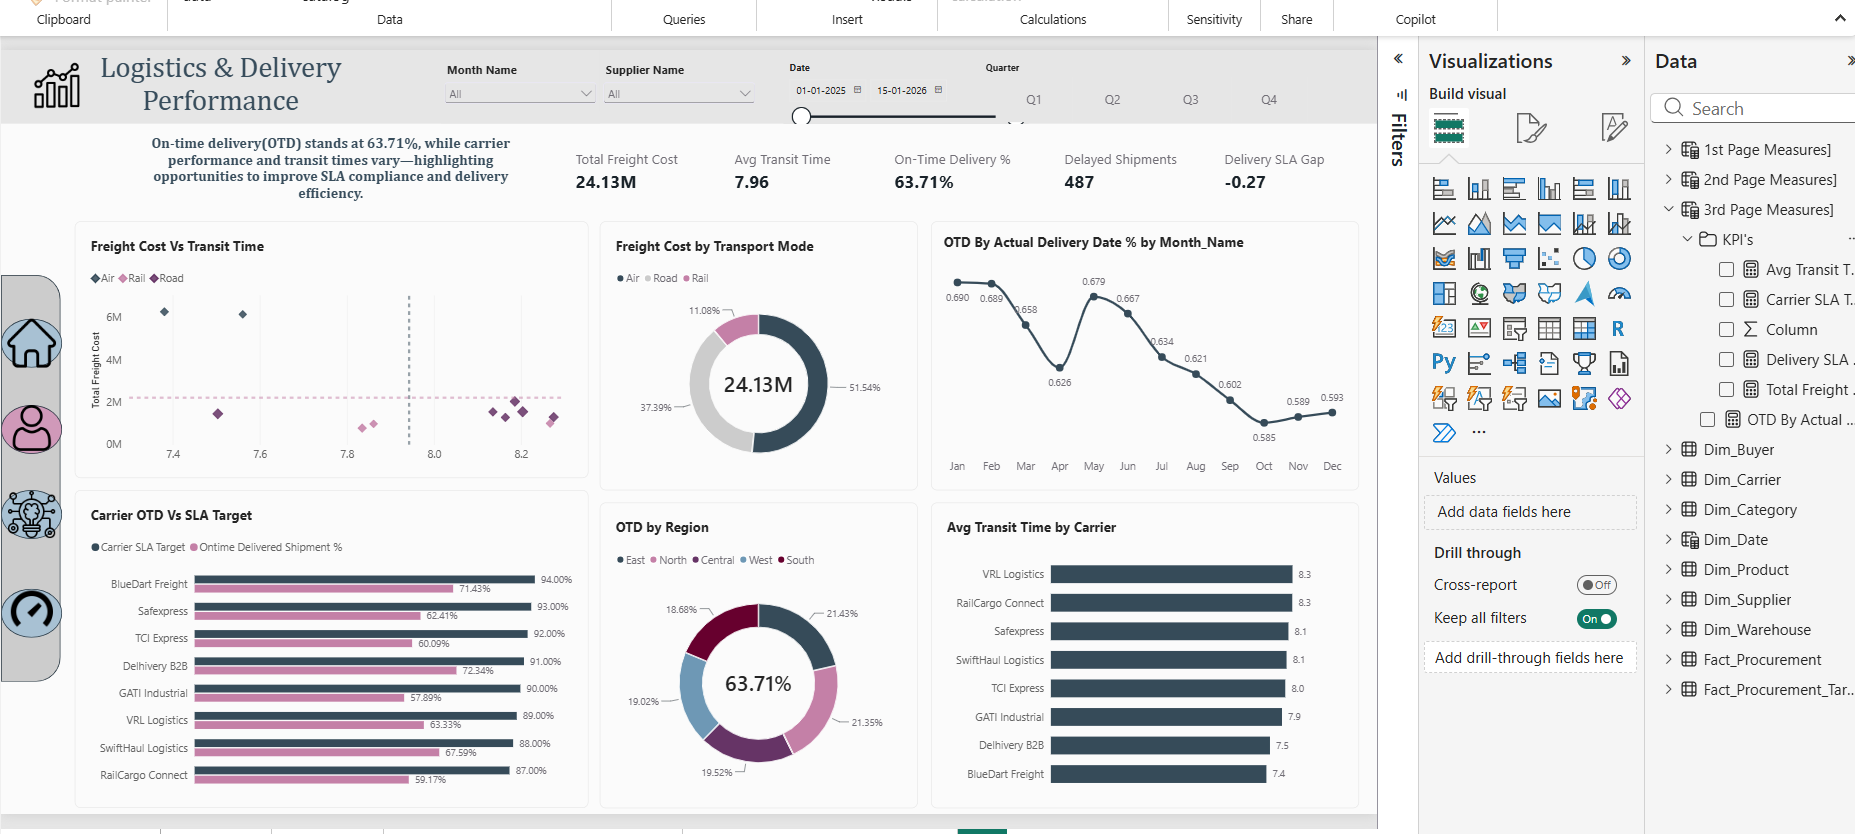

This screenshot's page, from the dashboard's own definition file:
{"tool":"powerbi","page":{"name":"Logistics & Delivery Performance","canvas":[1800,1000],"ordinal":3},"visuals":[{"type":"shape","box":[-8,0,1808,96],"z":0},{"type":"shape","box":[0,295,78,532],"z":1000},{"type":"textbox","box":[112,0,352,96],"z":2000},{"type":"textbox","box":[192,112,480,96],"z":3000},{"type":"shape","box":[0,352,80,64],"z":4000},{"type":"shape","box":[0,464,80,64],"z":5000},{"type":"shape","box":[0,576,80,64],"z":6000},{"type":"shape","box":[0,704,80,64],"z":7000},{"type":"image","box":[32,16,80,60],"z":8000},{"type":"image","box":[0,464,80,60],"z":9000},{"type":"image","box":[0,576,80,64],"z":10000},{"type":"image","box":[0,704,80,60],"z":11000},{"type":"cardVisual","fields":{"Data":["3rd Page Measures].Total Feright Cost"]},"box":[736,112,176,96],"z":12000},{"type":"cardVisual","fields":{"Data":["3rd Page Measures].Avg Transit Time"]},"box":[944,112,176,96],"z":13000},{"type":"cardVisual","fields":{"Data":["1st Page Measures].Ontime Delivered Shipment %"]},"box":[1152,112,208,96],"z":14000},{"type":"cardVisual","fields":{"Data":["1st Page Measures].Delayed Shipments"]},"box":[1376,112,192,96],"z":15000},{"type":"cardVisual","fields":{"Data":["3rd Page Measures].Delivery SLA Gap"]},"box":[1584,112,192,96],"z":16000},{"type":"image","box":[0,352,80,64],"z":17000},{"type":"slicer","title":"Month ","fields":{"Values":["Dim_Date.Month_Name"]},"box":[576,0,208,96],"z":18000},{"type":"slicer","title":"Month ","fields":{"Values":["Dim_Supplier.Supplier_Name"]},"box":[784,0,208,80],"z":19000},{"type":"slicer","title":"Month ","fields":{"Values":["Dim_Date.Date"]},"box":[1024,0,320,96],"z":20000},{"type":"slicer","fields":{"Values":["Dim_Date.Quarter"]},"box":[1280,0,448,96],"z":21000},{"type":"scatterChart","title":"Freight Cost Vs Transit Time","fields":{"Size":["1st Page Measures].Actual Procurement Spend"],"Y":["3rd Page Measures].Total Feright Cost"],"X":["3rd Page Measures].Avg Transit Time"],"Category":["Dim_Carrier.Carrier_Name"],"Series":["Fact_Procurement.Transport_Mode"]},"box":[96,224,672,336],"z":22000},{"type":"clusteredBarChart","title":"Carrier OTD Vs SLA Target ","fields":{"Y":["3rd Page Measures].Carrier SLA Target","1st Page Measures].Ontime Delivered Shipment %"],"Category":["Dim_Carrier.Carrier_Name"]},"box":[96,576,672,416],"z":23000},{"type":"donutChart","title":"Freight Cost by Transport Mode","fields":{"Category":["Fact_Procurement.Transport_Mode"],"Y":["3rd Page Measures].Total Feright Cost"]},"box":[784,224,416,352],"z":24000},{"type":"donutChart","title":"OTD by Region","fields":{"Y":["1st Page Measures].Ontime Delivered Shipment %"],"Category":["Dim_Warehouse.Region"]},"box":[784,592,416,400],"z":25000},{"type":"clusteredBarChart","title":"Avg Transit Time by Carrier ","fields":{"Category":["Dim_Carrier.Carrier_Name"],"Y":["3rd Page Measures].Avg Transit Time"]},"box":[1216,592,560,400],"z":26000},{"type":"lineChart","fields":{"Category":["Dim_Date.Month_Name"],"Y":["3rd Page Measures].OTD By Actual Delivery Date %"]},"box":[1216,224,560,352],"z":27000}]}

Visuals, with their boxes on the page's 1800x1000 design canvas (x1, y1, x2, y2). These are canvas units, not pixel positions in the 1855x834 screenshot, which may show the page scaled, cropped or inside an application window:
shape: [-8, 0, 1800, 96]
shape: [0, 295, 78, 827]
textbox: [112, 0, 464, 96]
textbox: [192, 112, 672, 208]
shape: [0, 352, 80, 416]
shape: [0, 464, 80, 528]
shape: [0, 576, 80, 640]
shape: [0, 704, 80, 768]
image: [32, 16, 112, 76]
image: [0, 464, 80, 524]
image: [0, 576, 80, 640]
image: [0, 704, 80, 764]
cardVisual - 3rd Page Measures].Total Feright Cost: [736, 112, 912, 208]
cardVisual - 3rd Page Measures].Avg Transit Time: [944, 112, 1120, 208]
cardVisual - 1st Page Measures].Ontime Delivered Shipment %: [1152, 112, 1360, 208]
cardVisual - 1st Page Measures].Delayed Shipments: [1376, 112, 1568, 208]
cardVisual - 3rd Page Measures].Delivery SLA Gap: [1584, 112, 1776, 208]
image: [0, 352, 80, 416]
"Month " slicer: [576, 0, 784, 96]
"Month " slicer: [784, 0, 992, 80]
"Month " slicer: [1024, 0, 1344, 96]
slicer - Dim_Date.Quarter: [1280, 0, 1728, 96]
"Freight Cost Vs Transit Time" scatterChart: [96, 224, 768, 560]
"Carrier OTD Vs SLA Target " clusteredBarChart: [96, 576, 768, 992]
"Freight Cost by Transport Mode" donutChart: [784, 224, 1200, 576]
"OTD by Region" donutChart: [784, 592, 1200, 992]
"Avg Transit Time by Carrier " clusteredBarChart: [1216, 592, 1776, 992]
lineChart - Dim_Date.Month_Name x 3rd Page Measures].OTD By Actual Delivery Date %: [1216, 224, 1776, 576]
